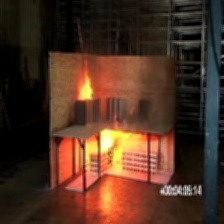fire: (86, 119, 146, 164), (67, 55, 107, 110)
